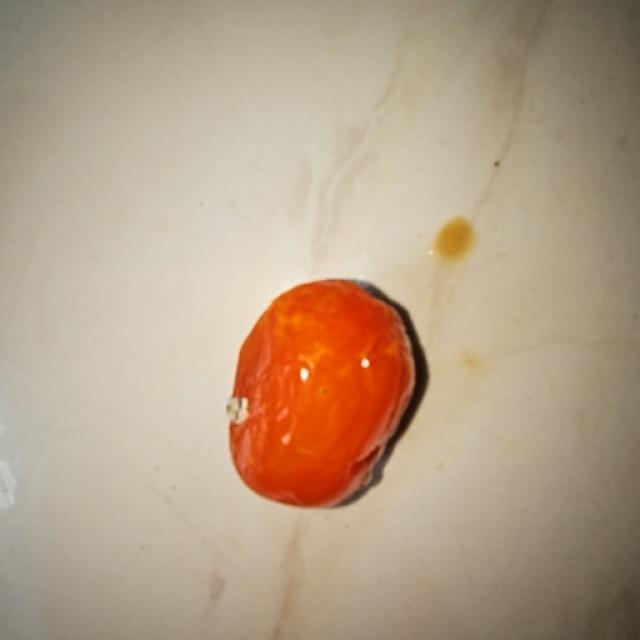Red: (225, 276, 417, 509)
